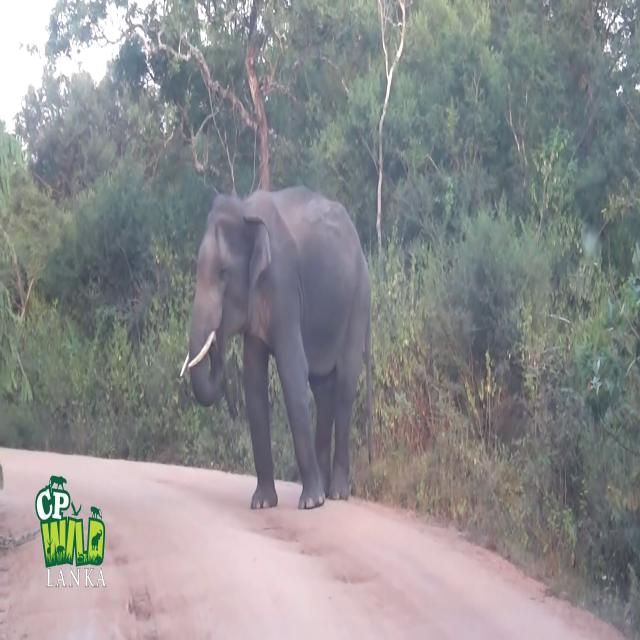Elephant: (179, 184, 374, 510)
